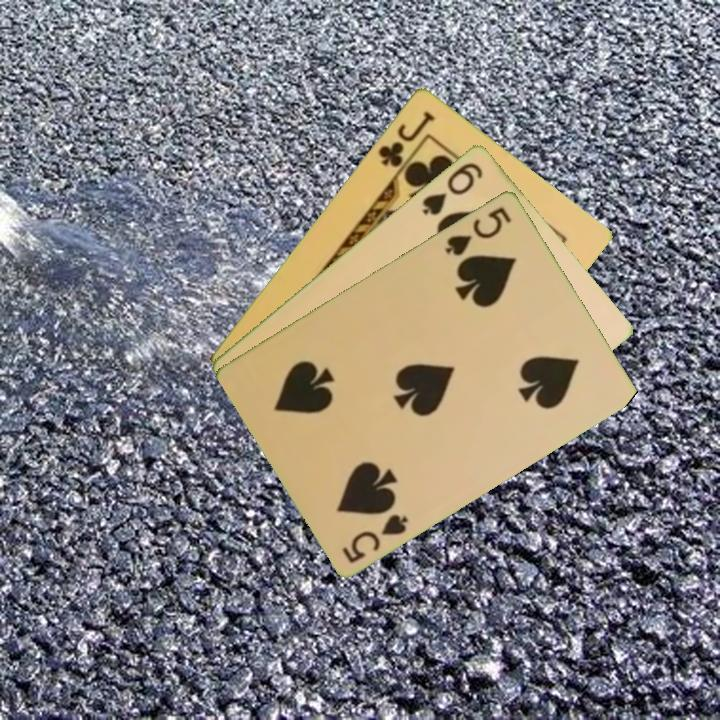5s: (441, 202, 515, 259), (338, 509, 412, 566)
6s: (418, 158, 486, 218)
Jc: (374, 106, 438, 170)
